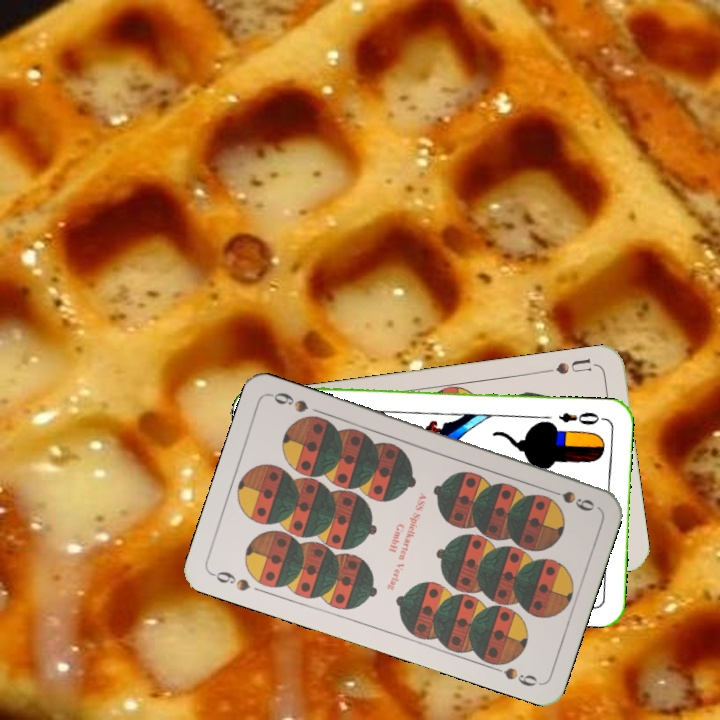EO: (554, 408, 607, 428)
S9: (541, 484, 597, 514), (207, 567, 253, 594)
SU: (539, 354, 594, 377)
